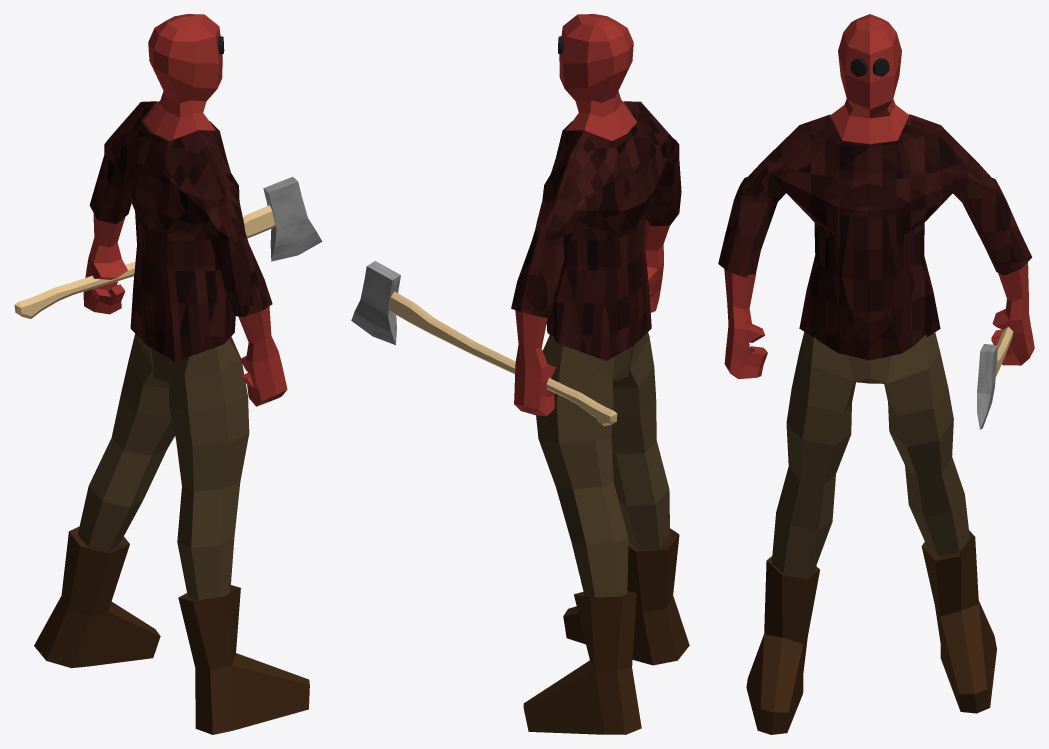
The model's file is LumberJack.fbx.
3 views of the same model, side by side, from view 1: azimuth 30°, elevation 25°; view 2: azimuth 150°, elevation 25°; view 3: azimuth 270°, elevation 25° (orthographic).
Parts seen in each view (by area): view 1: Human, Axe; view 2: Human, Axe; view 3: Human, Axe.
Part boxes in pixels (<box>): Human: <box>34,14,309,734</box>; Axe: <box>14,176,322,318</box>; Human: <box>511,14,689,734</box>; Axe: <box>351,261,617,425</box>; Human: <box>718,14,1034,734</box>; Axe: <box>977,327,1013,429</box>.
Bounding box in the file's own units: 218 × 493 × 206.
Materials: 7 (7 with a texture image).
